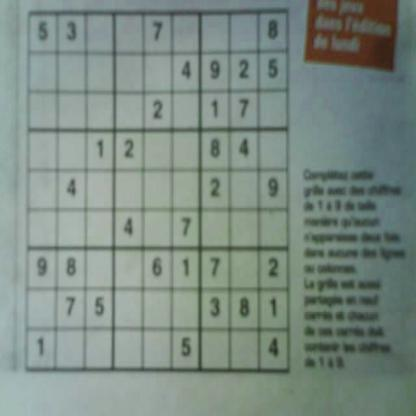sudoku: (21, 2, 296, 380)
